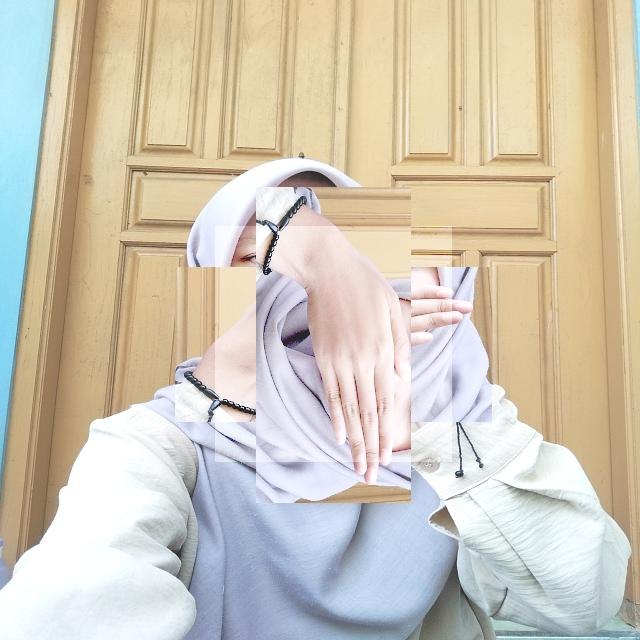buruk: (215, 227, 452, 462)
